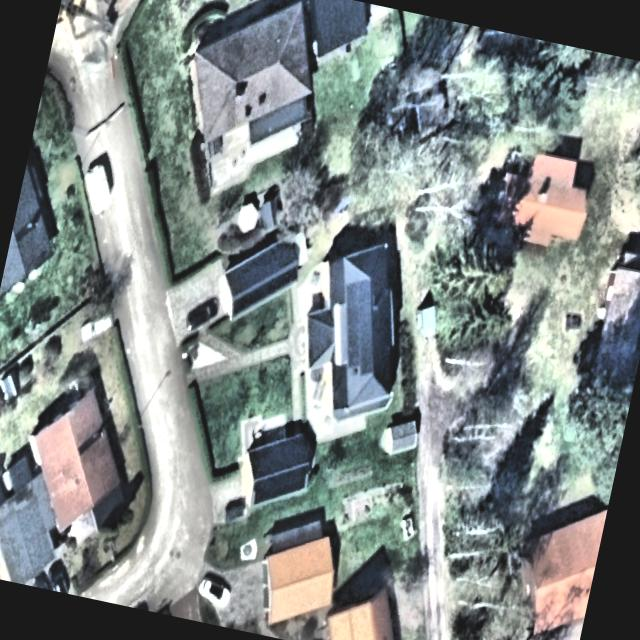roof_pv: (327, 271, 390, 380)
